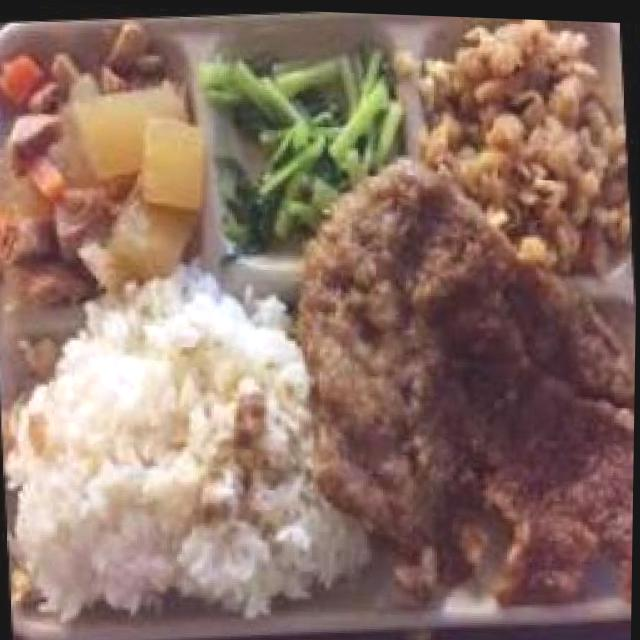rice: (51, 305, 319, 607)
